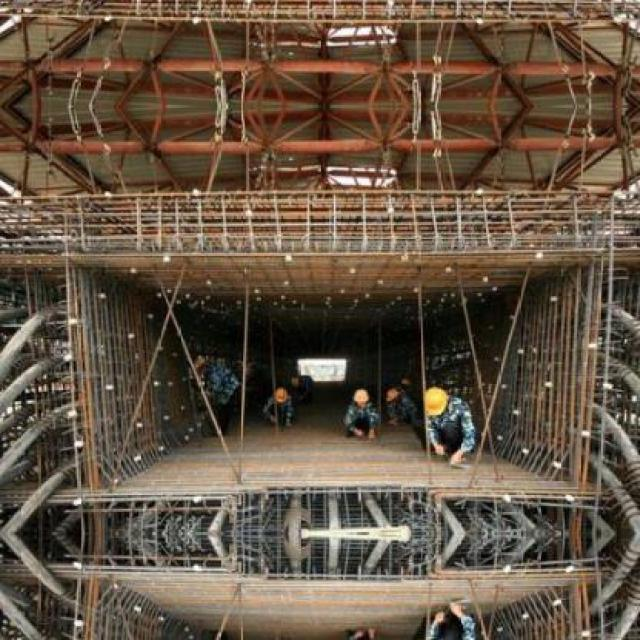helmet: (418, 386, 452, 421), (350, 387, 373, 413), (272, 383, 294, 408), (382, 383, 400, 405)
